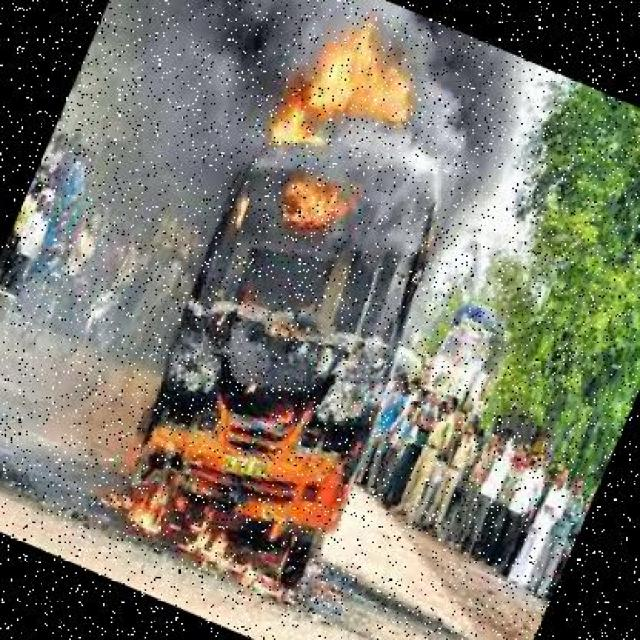fire: (95, 380, 363, 631), (252, 0, 458, 197), (243, 154, 360, 271)
